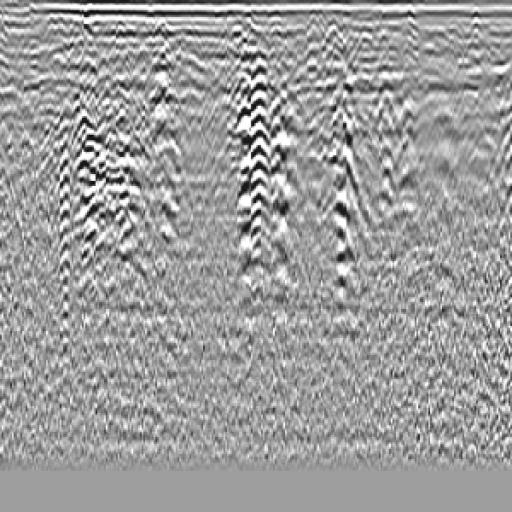non-metallic: (312, 57, 409, 299), (213, 34, 303, 273), (50, 69, 142, 283)
